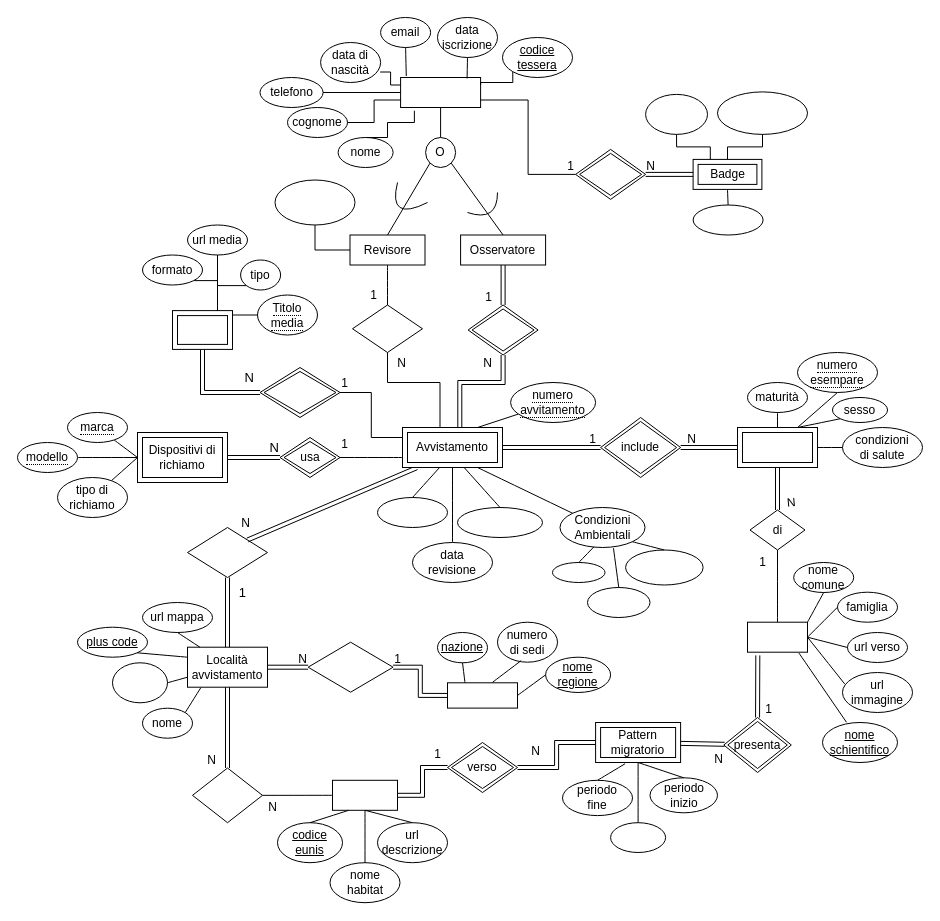
The diagram is 940 pixels wide and 921 high, and some of its shapes have lost their labels. The box of each missing label's shape, as (x1, y1, x2, y2) in pixels:
appartiene a: (307, 641, 393, 692)
area protetta: (112, 662, 168, 703)
avviene in: (186, 526, 268, 578)
data assegnazione: (716, 91, 808, 134)
data di attribuzione: (274, 179, 355, 225)
data e ora: (376, 496, 448, 528)
effettua: (467, 304, 538, 355)
Esemplare: (736, 426, 818, 468)
Habitat: (332, 779, 398, 810)
Media: (172, 310, 232, 349)
meteo: (552, 562, 605, 582)
motivo: (610, 822, 666, 852)
nome badge: (645, 93, 708, 134)
ottiene: (575, 148, 646, 199)
Possiede: (259, 366, 340, 418)
Regione: (446, 682, 518, 708)
revisiona: (352, 304, 422, 352)
Socio: (400, 76, 481, 108)
Specie: (746, 621, 808, 652)
temeperatura: (625, 549, 703, 585)
umidità: (586, 586, 650, 618)
url badge: (692, 204, 763, 235)
valutazione: (456, 506, 542, 538)
è presente in: (192, 767, 262, 823)
